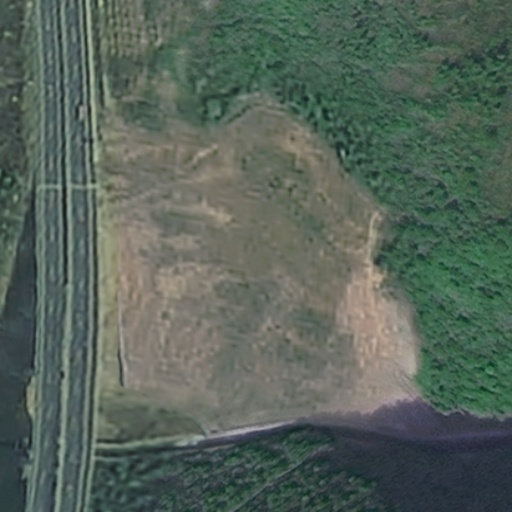landslide: (341, 247, 421, 410)
